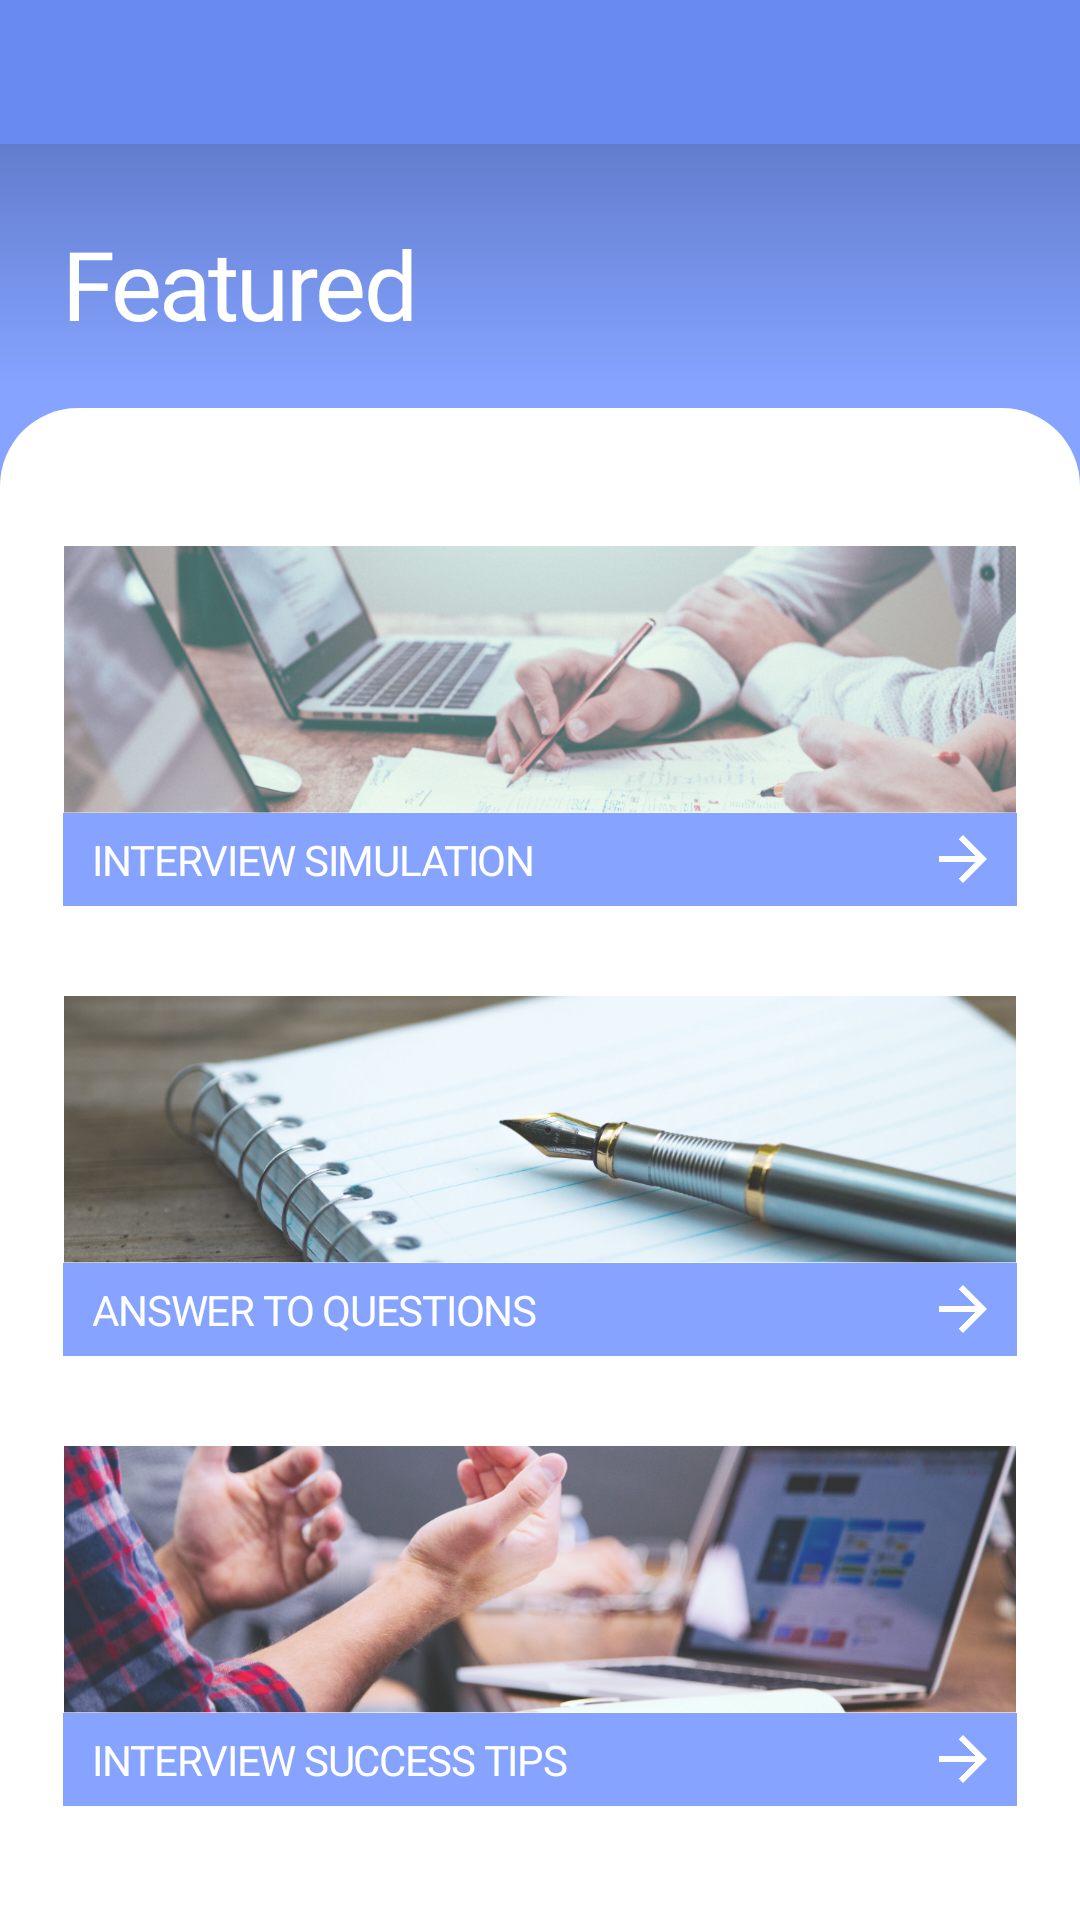

Named icons in this screenshot (1080*1920) and their bounding boxes, (x1,y1,x2,y2):
right arrow: (939,835,987,883), (939,1285,987,1333), (939,1735,987,1783)
